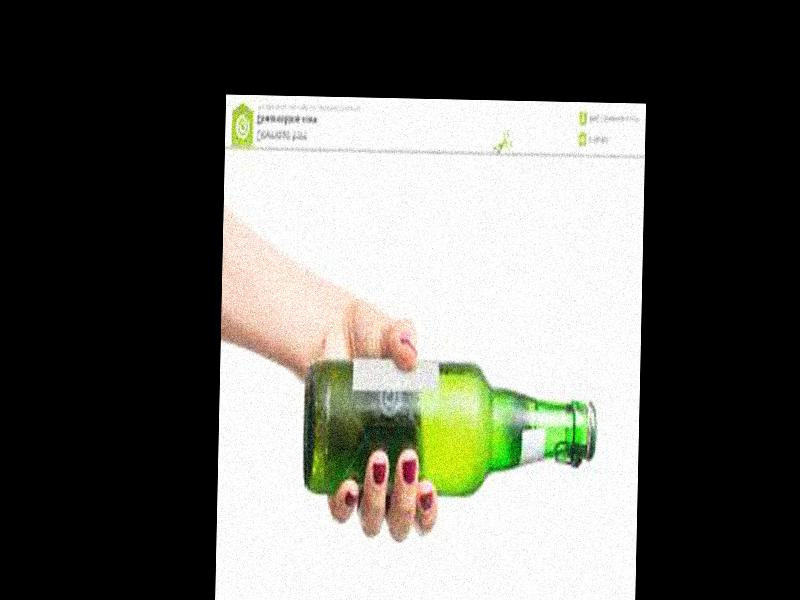Beer: (302, 354, 600, 499)
